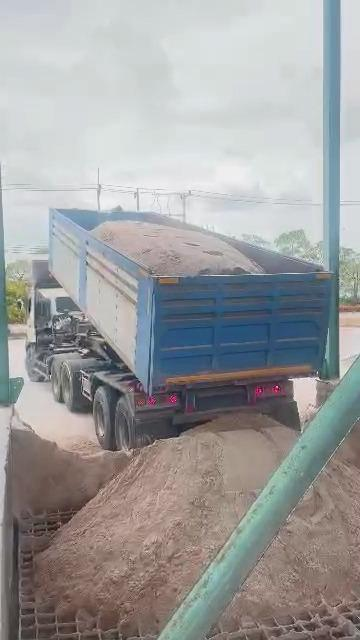sand: (36, 416, 295, 636), (224, 460, 360, 627), (10, 420, 131, 516), (92, 221, 263, 275), (335, 419, 360, 469)
